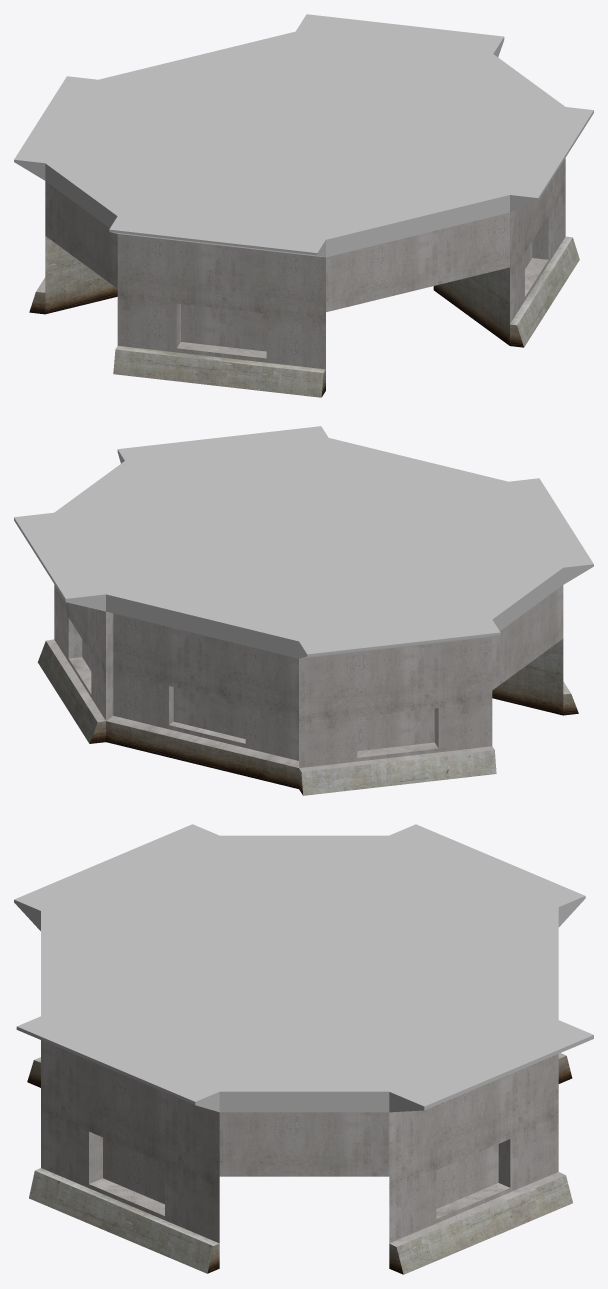
File: WeaponHolder4.fbx
3 renders of one model, top to bottom at view 1: azimuth 30°, elevation 25°; view 2: azimuth 150°, elevation 25°; view 3: azimuth 270°, elevation 25°, orthographic. The views are drawn at different scales.
Visible parts, largest first — view 1: Model; view 2: Model; view 3: Model.
Part boxes in pixels (x1,y1,x2,y2): Model: [14, 14, 593, 397]; Model: [14, 426, 593, 795]; Model: [14, 824, 593, 1274].
Bounding box in the file's own units: 20.63 × 6.03 × 17.91.
